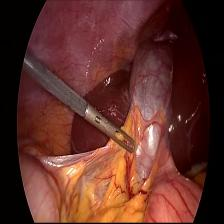Grasper: (86, 103, 137, 155)
